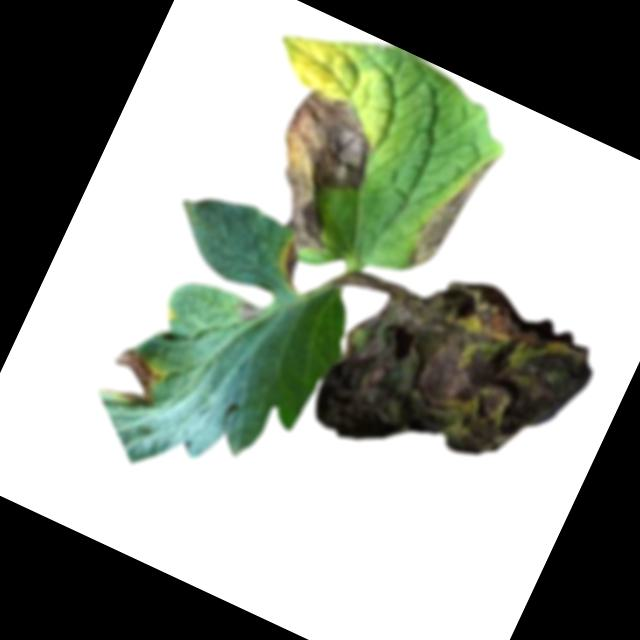Early_blight: (304, 237, 608, 522), (243, 80, 390, 256), (404, 142, 496, 279), (98, 343, 171, 415), (271, 240, 318, 294), (235, 298, 264, 325)
